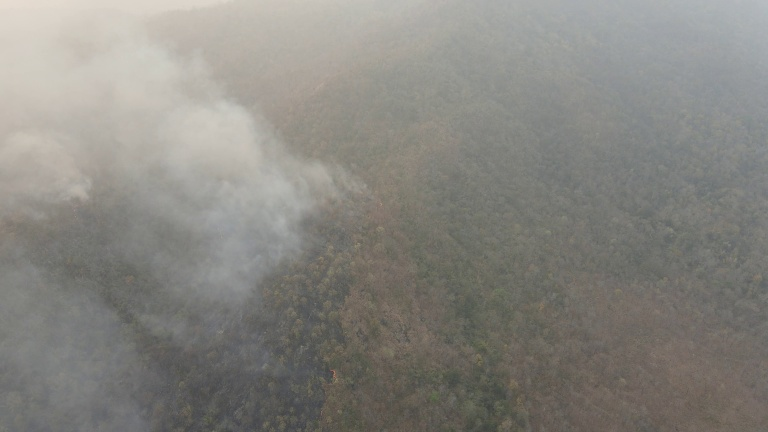fire: (310, 361, 340, 432)
smoke: (1, 1, 355, 425)
